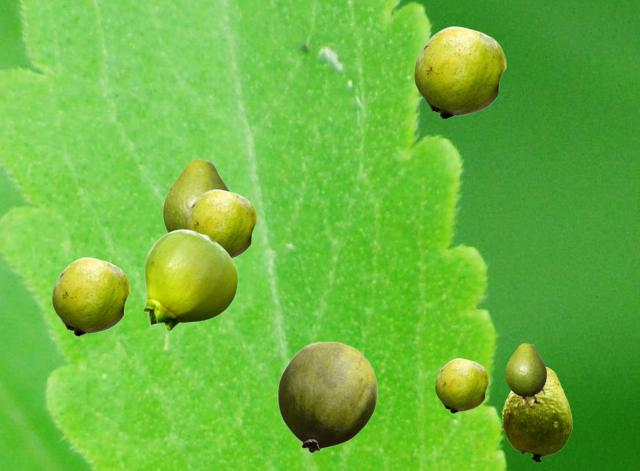guava: (277, 341, 377, 452), (143, 229, 237, 330), (414, 26, 505, 118), (501, 366, 571, 461), (52, 257, 129, 335), (184, 189, 256, 258), (163, 159, 229, 231), (435, 358, 488, 412), (505, 343, 545, 406)
